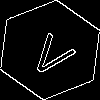V: (25, 25, 84, 81)
